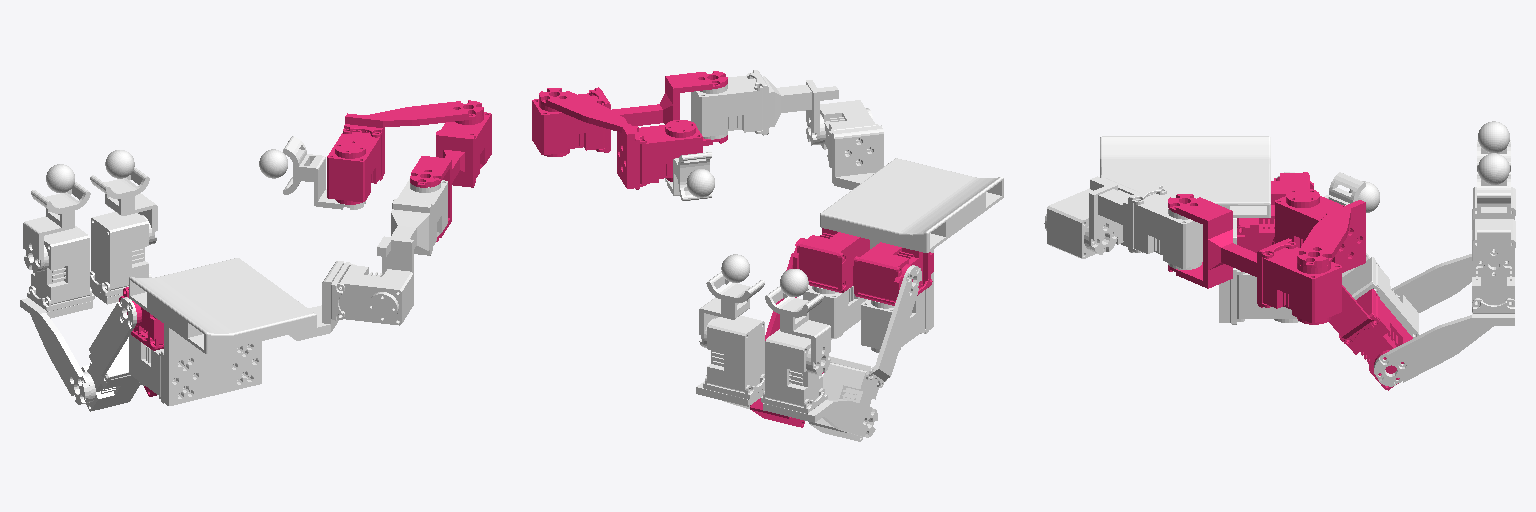
URDF robot description (EX12):
<?xml version="1.0" encoding="utf-8"?>
<!-- This URDF was automatically created by SolidWorks to URDF Exporter! Originally created by [author] ([email redacted]) 
     Commit Version: 1.6.0-4-g7f85cfe  Build Version: 1.6.7995.38578
     For more information, please see http://wiki.ros.org/sw_urdf_exporter -->
<robot name="EX12">
  <link name="base_link">
    <inertial>
      <origin xyz="0.0099830680106906 0.0397410314316151 -0.0211864454441244" rpy="0 0 0" />
      <mass value="0.104869110532873" />
      <inertia ixx="4.40259068004758E-05" ixy="6.98810794683233E-06" ixz="-2.53700810773621E-07" iyy="4.48482023749249E-05" iyz="7.20526256026948E-06" izz="5.64912491017328E-05" />
    </inertial>
    <visual>
      <origin xyz="0 0 0" rpy="0 0 0" />
      <geometry>
        <mesh filename="../meshes/base_link.STL" />
      </geometry>
      <material name="">
        <color rgba="1 1 1 1" />
      </material>
    </visual>
    <collision>
      <origin xyz="0 0 0" rpy="0 0 0" />
      <geometry>
        <mesh filename="../meshes/base_link.STL" />
      </geometry>
    </collision>
  </link>
  <link name="Link1">
    <inertial>
      <origin xyz="-6.00319993160625E-05 -0.0188440660121145 0.0388157872790522" rpy="0 0 0" />
      <mass value="0.0229044737579923" />
      <inertia ixx="3.68307067662643E-06" ixy="-7.11412616590783E-09" ixz="-2.95012721980954E-08" iyy="3.10417529463774E-06" iyz="1.5543737586746E-07" izz="1.87898985396668E-06" />
    </inertial>
    <visual>
      <origin xyz="0 0 0" rpy="0 0 0" />
      <geometry>
        <mesh filename="../meshes/Link1.STL" />
      </geometry>
      <material name="">
        <color rgba="1 1 1 1" />
      </material>
    </visual>
    <collision>
      <origin xyz="0 0 0" rpy="0 0 0" />
      <geometry>
        <mesh filename="../meshes/Link1.STL" />
      </geometry>
    </collision>
  </link>
  <joint name="joint1" type="revolute">
    <origin xyz="0.0751385389055488 -0.00636396103067887 0.0048" rpy="-1.5707963267949 0 -0.785398163397448" />
    <parent link="base_link" />
    <child link="Link1" />
    <axis xyz="0 0 1" />
    <limit lower="-0.5236" upper="1.5708" effort="10" velocity="3.1" />
  </joint>
  <link name="Link2">
    <inertial>
      <origin xyz="0.0620656674687212 -1.23233372678611E-06 -0.000183261665333292" rpy="0 0 0" />
      <mass value="0.0242129446909479" />
      <inertia ixx="2.37952479630714E-06" ixy="3.55151458706217E-10" ixz="-1.17278836724953E-08" iyy="6.59978940156319E-06" iyz="-3.27731485625897E-18" izz="5.51741964021148E-06" />
    </inertial>
    <visual>
      <origin xyz="0 0 0" rpy="0 0 0" />
      <geometry>
        <mesh filename="../meshes/Link2.STL" />
      </geometry>
      <material name="">
        <color rgba="1 0.247058823529412 0.549019607843137 1" />
      </material>
    </visual>
    <collision>
      <origin xyz="0 0 0" rpy="0 0 0" />
      <geometry>
        <mesh filename="../meshes/Link2.STL" />
      </geometry>
    </collision>
  </link>
  <joint name="joint2" type="revolute">
    <origin xyz="0 -0.0192 0.0555" rpy="-1.63723082087563 -1.57079630572147 0.0664344940807344" />
    <parent link="Link1" />
    <child link="Link2" />
    <axis xyz="0 0 -1" />
    <limit lower="-1.5708" upper="1.5708" effort="10" velocity="3.1" />
  </joint>
  <link name="Link3">
    <inertial>
      <origin xyz="-0.0593294085805471 -0.00705360634134413 -0.00239627580402788" rpy="0 0 0" />
      <mass value="0.0220980628650688" />
      <inertia ixx="2.69266003915005E-06" ixy="-1.66389188892164E-07" ixz="5.31101919009088E-07" iyy="4.19521508301342E-06" iyz="2.02304254602486E-07" izz="4.12458515499625E-06" />
    </inertial>
    <visual>
      <origin xyz="0 0 0" rpy="0 0 0" />
      <geometry>
        <mesh filename="../meshes/Link3.STL" />
      </geometry>
      <material name="">
        <color rgba="1 0.247058823529412 0.549019607843137 1" />
      </material>
    </visual>
    <collision>
      <origin xyz="0 0 0" rpy="0 0 0" />
      <geometry>
        <mesh filename="../meshes/Link3.STL" />
      </geometry>
    </collision>
  </link>
  <joint name="joint3" type="revolute">
    <origin xyz="0.085 0 0" rpy="0 0 0.713724238084184" />
    <parent link="Link2" />
    <child link="Link3" />
    <axis xyz="0 0 -1" />
    <limit lower="-1.5708" upper="1.5708" effort="10" velocity="3.1" />
  </joint>
  <link name="Link4">
    <inertial>
      <origin xyz="0.0186708302285717 5.55111512312578E-17 0.00519972967862226" rpy="0 0 0" />
      <mass value="0.00344356132156391" />
      <inertia ixx="3.30892112665283E-07" ixy="1.32348898008484E-23" ixz="1.90543744421633E-07" iyy="5.6592832004267E-07" iyz="-5.4726624688597E-23" izz="3.92761434396662E-07" />
    </inertial>
    <visual>
      <origin xyz="0 0 0" rpy="0 0 0" />
      <geometry>
        <mesh filename="../meshes/Link4.STL" />
      </geometry>
      <material name="">
        <color rgba="1 1 1 1" />
      </material>
    </visual>
    <collision>
      <origin xyz="0 0 0" rpy="0 0 0" />
      <geometry>
        <mesh filename="../meshes/Link4.STL" />
      </geometry>
    </collision>
  </link>
  <joint name="joint4" type="revolute">
    <origin xyz="-0.072758152178594 0 0" rpy="0 0 -2.28452056487908" />
    <parent link="Link3" />
    <child link="Link4" />
    <axis xyz="0 0 -1" />
    <limit lower="-3.14" upper="3.14" effort="10" velocity="3.1" />
  </joint>
  <link name="Link13">
    <inertial>
      <origin xyz="1.38777878078145E-17 6.93889390390723E-18 1.38777878078145E-17" rpy="0 0 0" />
      <mass value="0.00176714586764426" />
      <inertia ixx="3.97607820219958E-08" ixy="-4.43931353498102E-39" ixz="-1.24077091882954E-24" iyy="3.97607820219958E-08" iyz="4.43931353498102E-39" izz="3.97607820219958E-08" />
    </inertial>
    <visual>
      <origin xyz="0 0 0" rpy="0 0 0" />
      <geometry>
        <mesh filename="../meshes/Link13.STL" />
      </geometry>
      <material name="">
        <color rgba="1 1 1 1" />
      </material>
    </visual>
    <collision>
      <origin xyz="0 0 0" rpy="0 0 0" />
      <geometry>
        <mesh filename="../meshes/Link13.STL" />
      </geometry>
    </collision>
  </link>
  <joint name="joint13" type="fixed">
    <origin xyz="0.0405 0 0" rpy="1.5708 0 0.7854" />
    <parent link="Link4" />
    <child link="Link13" />
    <axis xyz="0 0 0" />
  </joint>
  <link name="Link5">
    <inertial>
      <origin xyz="-0.00689820628028363 -0.000244023946112521 0.0118526388960072" rpy="0 0 0" />
      <mass value="0.017883193977129" />
      <inertia ixx="1.56664951849998E-06" ixy="-3.22396585519132E-08" ixz="-1.7418978736825E-08" iyy="2.38300025887913E-06" iyz="5.18996109009325E-09" izz="2.83801699056717E-06" />
    </inertial>
    <visual>
      <origin xyz="0 0 0" rpy="0 0 0" />
      <geometry>
        <mesh filename="../meshes/Link5.STL" />
      </geometry>
      <material name="">
        <color rgba="1 0.247058823529412 0.549019607843137 1" />
      </material>
    </visual>
    <collision>
      <origin xyz="0 0 0" rpy="0 0 0" />
      <geometry>
        <mesh filename="../meshes/Link5.STL" />
      </geometry>
    </collision>
  </link>
  <joint name="joint5" type="revolute">
    <origin xyz="0.0175 0.081459 -0.034" rpy="0 0 1.5708" />
    <parent link="base_link" />
    <child link="Link5" />
    <axis xyz="0 0 -1" />
    <limit lower="-1" upper="1" effort="10" velocity="3.1" />
  </joint>
  <link name="Link6">
    <inertial>
      <origin xyz="0.0638413859134696 -6.67313426738758E-14 -0.00192454301329028" rpy="0 0 0" />
      <mass value="0.0193769642321485" />
      <inertia ixx="1.70248560884431E-06" ixy="1.29483659697377E-17" ixz="-3.6952937597039E-07" iyy="3.98922911873896E-06" iyz="-2.71435898337089E-18" izz="3.44905637917212E-06" />
    </inertial>
    <visual>
      <origin xyz="0 0 0" rpy="0 0 0" />
      <geometry>
        <mesh filename="../meshes/Link6.STL" />
      </geometry>
      <material name="">
        <color rgba="1 0.247058823529412 0.549019607843137 1" />
      </material>
    </visual>
    <collision>
      <origin xyz="0 0 0" rpy="0 0 0" />
      <geometry>
        <mesh filename="../meshes/Link6.STL" />
      </geometry>
    </collision>
  </link>
  <joint name="joint6" type="revolute">
    <origin xyz="0 0 0.013" rpy="-1.5707963267949 0.915757359471054 0" />
    <parent link="Link5" />
    <child link="Link6" />
    <axis xyz="0 0 -1" />
    <limit lower="-0.7854" upper="1.5708" effort="10" velocity="3.1" />
  </joint>
  <link name="Link7">
    <inertial>
      <origin xyz="0.0589695983578967 0.00724260090064129 -0.00235028329736047" rpy="0 0 0" />
      <mass value="0.0215214171982948" />
      <inertia ixx="2.57449209003315E-06" ixy="-1.80380061828166E-07" ixz="-4.7389629822068E-07" iyy="4.07300830871968E-06" iyz="-2.51845761343157E-07" izz="4.07797542730813E-06" />
    </inertial>
    <visual>
      <origin xyz="0 0 0" rpy="0 0 0" />
      <geometry>
        <mesh filename="../meshes/Link7.STL" />
      </geometry>
      <material name="">
        <color rgba="1 1 1 1" />
      </material>
    </visual>
    <collision>
      <origin xyz="0 0 0" rpy="0 0 0" />
      <geometry>
        <mesh filename="../meshes/Link7.STL" />
      </geometry>
    </collision>
  </link>
  <joint name="joint7" type="revolute">
    <origin xyz="0.0780000000000012 0 0" rpy="0 0 -1.76980911774268" />
    <parent link="Link6" />
    <child link="Link7" />
    <axis xyz="0 0 -1" />
    <limit lower="-1.5708" upper="1.5708" effort="10" velocity="3.1" />
  </joint>
  <link name="Link8">
    <inertial>
      <origin xyz="0.0186708302285715 0 0.00519972967862212" rpy="0 0 0" />
      <mass value="0.00344356132156392" />
      <inertia ixx="3.30892112665283E-07" ixy="1.60218932087981E-23" ixz="1.90543744421633E-07" iyy="5.6592832004267E-07" iyz="1.28798312395952E-23" izz="3.92761434396661E-07" />
    </inertial>
    <visual>
      <origin xyz="0 0 0" rpy="0 0 0" />
      <geometry>
        <mesh filename="../meshes/Link8.STL" />
      </geometry>
      <material name="">
        <color rgba="1 1 1 1" />
      </material>
    </visual>
    <collision>
      <origin xyz="0 0 0" rpy="0 0 0" />
      <geometry>
        <mesh filename="../meshes/Link8.STL" />
      </geometry>
    </collision>
  </link>
  <joint name="joint8" type="revolute">
    <origin xyz="0.0727581521785966 0 0" rpy="3.14159265358979 0 -0.716744568523267" />
    <parent link="Link7" />
    <child link="Link8" />
    <axis xyz="0 0 1" />
    <limit lower="-1.5708" upper="1.5708" effort="10" velocity="3.1" />
  </joint>
  <link name="Link14">
    <inertial>
      <origin xyz="-2.77555756156289E-17 0 0" rpy="0 0 0" />
      <mass value="0.00176714586764426" />
      <inertia ixx="3.97607820219958E-08" ixy="-3.58732406867153E-40" ixz="-5.51012976947947E-40" iyy="3.97607820219958E-08" iyz="-8.7812657842563E-40" izz="3.97607820219958E-08" />
    </inertial>
    <visual>
      <origin xyz="0 0 0" rpy="0 0 0" />
      <geometry>
        <mesh filename="../meshes/Link14.STL" />
      </geometry>
      <material name="">
        <color rgba="1 1 1 1" />
      </material>
    </visual>
    <collision>
      <origin xyz="0 0 0" rpy="0 0 0" />
      <geometry>
        <mesh filename="../meshes/Link14.STL" />
      </geometry>
    </collision>
  </link>
  <joint name="joint14" type="fixed">
    <origin xyz="0.0405 0 0" rpy="3.14159265358979 0 -1.5707963267949" />
    <parent link="Link8" />
    <child link="Link14" />
    <axis xyz="0 0 0" />
  </joint>
  <link name="Link9">
    <inertial>
      <origin xyz="-0.00689820627753126 -0.00024402393990702 -0.0118526389187708" rpy="0 0 0" />
      <mass value="0.0178831939273071" />
      <inertia ixx="1.56664951631453E-06" ixy="-3.22396340642812E-08" ixz="1.74189788221193E-08" iyy="2.38300025260992E-06" iyz="-5.18996030028338E-09" izz="2.83801698302306E-06" />
    </inertial>
    <visual>
      <origin xyz="0 0 0" rpy="0 0 0" />
      <geometry>
        <mesh filename="../meshes/Link9.STL" />
      </geometry>
      <material name="">
        <color rgba="1 0.247058823529412 0.549019607843137 1" />
      </material>
    </visual>
    <collision>
      <origin xyz="0 0 0" rpy="0 0 0" />
      <geometry>
        <mesh filename="../meshes/Link9.STL" />
      </geometry>
    </collision>
  </link>
  <joint name="joint9" type="revolute">
    <origin xyz="-0.0175 0.0814594408408979 -0.034" rpy="3.14159265358979 0 1.5707963267949" />
    <parent link="base_link" />
    <child link="Link9" />
    <axis xyz="0 0 1" />
    <limit lower="-1" upper="1" effort="10" velocity="3.1" />
  </joint>
  <link name="Link10">
    <inertial>
      <origin xyz="0.0638413859134684 6.12218609141735E-14 0.00192454301329252" rpy="0 0 0" />
      <mass value="0.0193769642321494" />
      <inertia ixx="1.70248560884328E-06" ixy="-1.2788132860731E-17" ixz="3.69529375969938E-07" iyy="3.98922911873851E-06" iyz="-2.5456516438544E-18" izz="3.44905637917179E-06" />
    </inertial>
    <visual>
      <origin xyz="0 0 0" rpy="0 0 0" />
      <geometry>
        <mesh filename="../meshes/Link10.STL" />
      </geometry>
      <material name="">
        <color rgba="1 1 1 1" />
      </material>
    </visual>
    <collision>
      <origin xyz="0 0 0" rpy="0 0 0" />
      <geometry>
        <mesh filename="../meshes/Link10.STL" />
      </geometry>
    </collision>
  </link>
  <joint name="joint10" type="revolute">
    <origin xyz="0 0 -0.013" rpy="1.5707963267949 -0.915757359471054 0" />
    <parent link="Link9" />
    <child link="Link10" />
    <axis xyz="0 0 -1" />
    <limit lower="-0.7854" upper="1.5708" effort="10" velocity="3.1" />
  </joint>
  <link name="Link11">
    <inertial>
      <origin xyz="0.0589695983578974 0.00724260090063956 0.00235028329739345" rpy="0 0 0" />
      <mass value="0.0215214171982949" />
      <inertia ixx="2.57449209003318E-06" ixy="-1.80380061828154E-07" ixz="4.73896298218045E-07" iyy="4.0730083087197E-06" iyz="2.51845761341963E-07" izz="4.07797542730811E-06" />
    </inertial>
    <visual>
      <origin xyz="0 0 0" rpy="0 0 0" />
      <geometry>
        <mesh filename="../meshes/Link11.STL" />
      </geometry>
      <material name="">
        <color rgba="1 1 1 1" />
      </material>
    </visual>
    <collision>
      <origin xyz="0 0 0" rpy="0 0 0" />
      <geometry>
        <mesh filename="../meshes/Link11.STL" />
      </geometry>
    </collision>
  </link>
  <joint name="joint11" type="revolute">
    <origin xyz="0.0780000000000029 0 0" rpy="0 0 -1.76980911774268" />
    <parent link="Link10" />
    <child link="Link11" />
    <axis xyz="0 0 -1" />
    <limit lower="-1.5708" upper="1.5708" effort="10" velocity="3.1" />
  </joint>
  <link name="Link12">
    <inertial>
      <origin xyz="0.0186708302285772 8.32667268468867E-16 -0.00519972967862208" rpy="0 0 0" />
      <mass value="0.00344356132156391" />
      <inertia ixx="3.30892112665283E-07" ixy="2.35619735632841E-22" ixz="-1.90543744421633E-07" iyy="5.65928320042669E-07" iyz="1.48414306181533E-22" izz="3.9276143439666E-07" />
    </inertial>
    <visual>
      <origin xyz="0 0 0" rpy="0 0 0" />
      <geometry>
        <mesh filename="../meshes/Link12.STL" />
      </geometry>
      <material name="">
        <color rgba="1 1 1 1" />
      </material>
    </visual>
    <collision>
      <origin xyz="0 0 0" rpy="0 0 0" />
      <geometry>
        <mesh filename="../meshes/Link12.STL" />
      </geometry>
    </collision>
  </link>
  <joint name="joint12" type="revolute">
    <origin xyz="0.0727581521785937 0 0" rpy="3.14159265358979 0 -0.716744568523267" />
    <parent link="Link11" />
    <child link="Link12" />
    <axis xyz="0 0 1" />
    <limit lower="-1.5708" upper="1.5708" effort="10" velocity="3.1" />
  </joint>
  <link name="Link15">
    <inertial>
      <origin xyz="-2.77555756156289E-17 6.93889390390723E-18 3.46944695195361E-18" rpy="0 0 0" />
      <mass value="0.00176714586764426" />
      <inertia ixx="3.97607820219958E-08" ixy="-3.58732406867153E-40" ixz="-5.51012976947947E-40" iyy="3.97607820219958E-08" iyz="-8.7812657842563E-40" izz="3.97607820219958E-08" />
    </inertial>
    <visual>
      <origin xyz="0 0 0" rpy="0 0 0" />
      <geometry>
        <mesh filename="../meshes/Link15.STL" />
      </geometry>
      <material name="">
        <color rgba="1 1 1 1" />
      </material>
    </visual>
    <collision>
      <origin xyz="0 0 0" rpy="0 0 0" />
      <geometry>
        <mesh filename="../meshes/Link15.STL" />
      </geometry>
    </collision>
  </link>
  <joint name="joint15" type="fixed">
    <origin xyz="0.0405000000000056 0 0" rpy="3.14159265358979 0 -1.5707963267949" />
    <parent link="Link12" />
    <child link="Link15" />
    <axis xyz="0 0 0" />
  </joint>
</robot>

--- Facts derived from the render (not from the file) ---
Views: 3 orthographic renders of the robot side by side, from view 1: azimuth 30°, elevation 25°; view 2: azimuth 150°, elevation 25°; view 3: azimuth 270°, elevation 25°.
Model EX12 with 16 links and 15 joints (12 revolute, 3 fixed), rooted at base_link, posed every joint at zero.
Links seen in each view (by area): view 1: base_link, Link11, Link3, Link7, Link1, Link2, Link10, Link12, Link8, Link4, Link9, Link14 (+2 smaller); view 2: base_link, Link1, Link3, Link11, Link2, Link7, Link10, Link9, Link5, Link12, Link8, Link4 (+4 smaller); view 3: base_link, Link2, Link1, Link7, Link3, Link6, Link8, Link11, Link10, Link5, Link15, Link14 (+2 smaller).
Link boxes in pixels (x1,y1,x2,y2): base_link: (129,258,413,405); Link11: (20,226,94,404); Link3: (327,100,483,204); Link7: (90,212,151,304); Link1: (377,179,447,275); Link2: (410,112,491,241); Link10: (81,297,140,411); Link12: (23,182,90,272); Link8: (90,167,157,244); Link4: (283,136,365,209); Link9: (119,287,163,350); Link14: (105,150,134,178); base_link: (803,100,1003,352); Link1: (691,70,838,145); Link3: (539,88,702,189); Link11: (761,329,877,437); Link2: (532,71,727,156); Link7: (696,315,764,408); Link10: (808,265,921,441); Link9: (853,242,933,305); Link5: (793,228,869,292); Link12: (765,286,830,375); Link8: (699,271,764,347); Link4: (665,152,711,200); base_link: (1044,136,1299,324); Link2: (1168,194,1341,324); Link1: (1089,176,1202,269); Link7: (1374,219,1515,386); Link3: (1275,188,1365,272); Link6: (1272,240,1412,390); Link8: (1477,172,1510,278); Link11: (1391,187,1515,312); Link10: (1276,172,1418,338); Link5: (1237,205,1274,271); Link15: (1478,121,1509,152); Link14: (1478,153,1509,184).
Size in the robot's own frame: 0.2251 by 0.2193 by 0.1379 metres.
16 mesh visuals loaded from 16 distinct referenced files (16 binary STL).